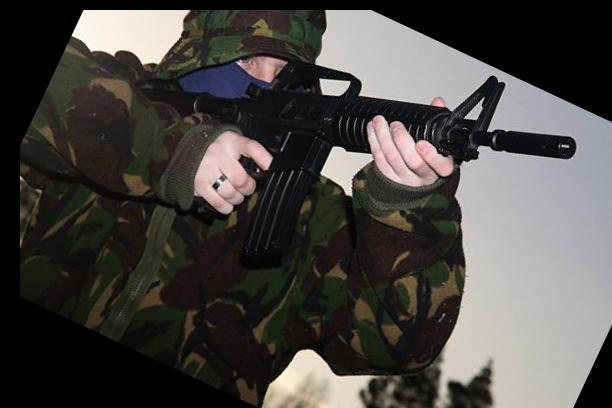larga: (140, 59, 576, 271)
